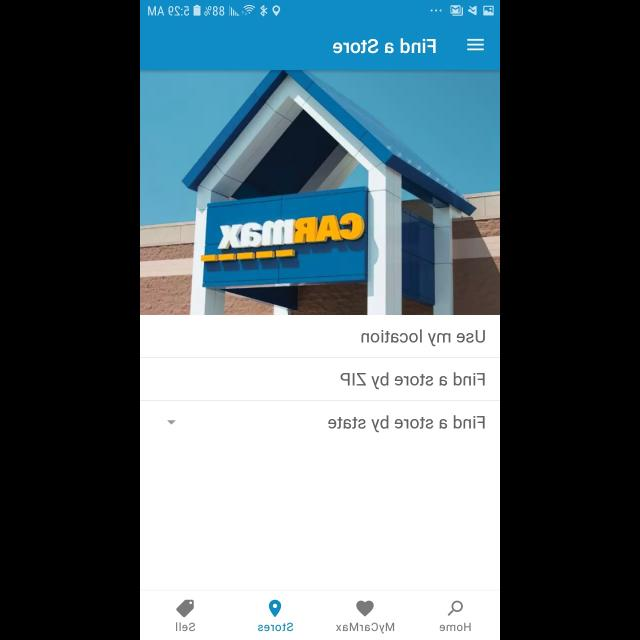icon: (176, 599, 194, 617), (356, 600, 374, 616), (446, 600, 462, 616), (466, 38, 484, 52), (269, 599, 281, 617), (167, 420, 176, 424)
image: (140, 70, 500, 316)
text: (328, 415, 484, 433), (340, 372, 484, 390), (361, 329, 485, 347), (332, 38, 436, 54), (336, 622, 394, 634), (258, 622, 292, 632), (439, 622, 471, 632), (176, 621, 194, 631)
uppertaskbar: (140, 1, 500, 22)
